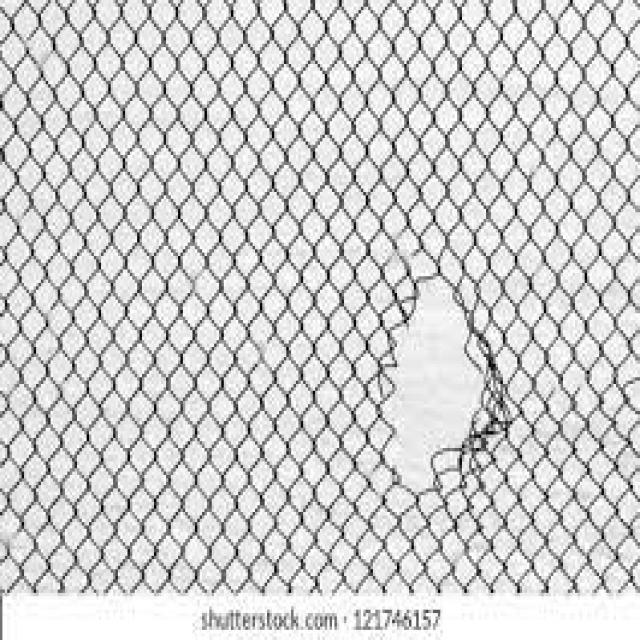fence line: (373, 266, 512, 499)
